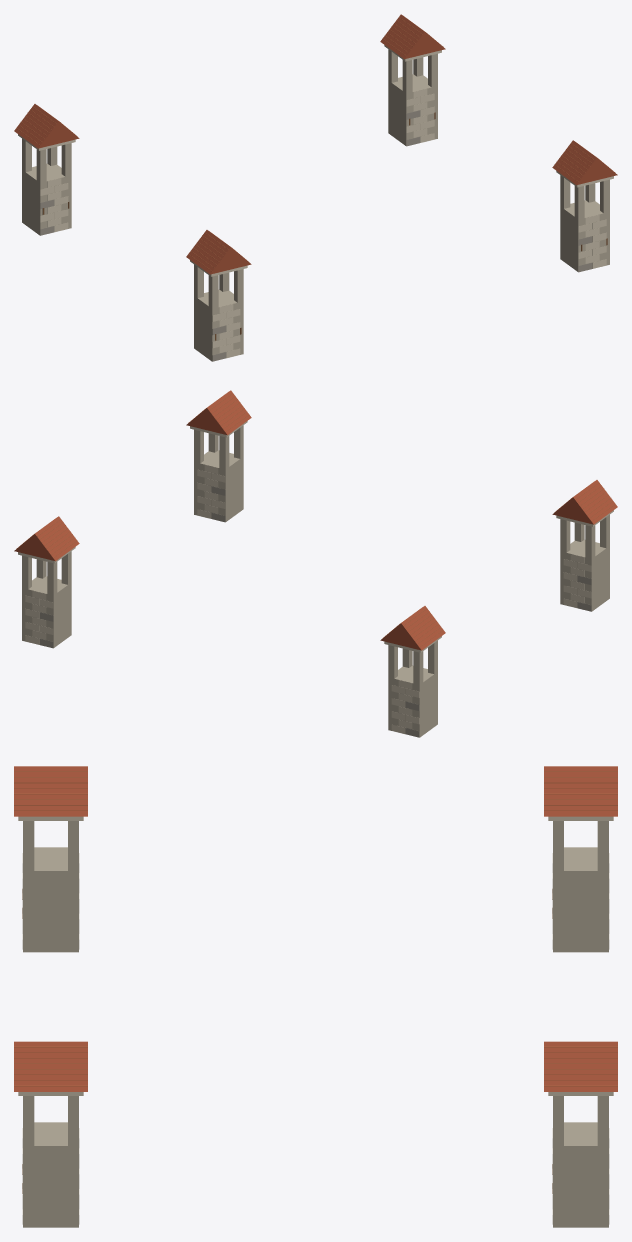
Rendered from 08_towers.glb.
3 renders of one model, top to bottom at view 1: azimuth 30°, elevation 25°; view 2: azimuth 150°, elevation 25°; view 3: azimuth 270°, elevation 25°, orthographic. The views are drawn at different scales.
Parts seen in each view (by area): view 1: 08_towers_stone, 08_towers_roof, 08_towers_ashlar_nocol, 08_towers_rooflight_nocol, 08_towers_mortar_nocol, 08_towers_ashlar; view 2: 08_towers_stone, 08_towers_roof, 08_towers_ashlar_nocol, 08_towers_rooflight_nocol, 08_towers_mortar_nocol, 08_towers_ashlar; view 3: 08_towers_stone, 08_towers_roof, 08_towers_rooflight_nocol, 08_towers_ashlar, 08_towers_ashlar_nocol.
Part boxes in pixels (<box>): 08_towers_stone: <box>22,49,609,361</box>; 08_towers_roof: <box>14,14,617,274</box>; 08_towers_ashlar_nocol: <box>40,89,606,357</box>; 08_towers_rooflight_nocol: <box>16,17,615,270</box>; 08_towers_mortar_nocol: <box>40,110,592,361</box>; 08_towers_ashlar: <box>18,45,613,276</box>; 08_towers_stone: <box>22,425,609,737</box>; 08_towers_roof: <box>14,390,617,650</box>; 08_towers_ashlar_nocol: <box>25,465,591,733</box>; 08_towers_rooflight_nocol: <box>16,393,615,646</box>; 08_towers_mortar_nocol: <box>39,486,591,737</box>; 08_towers_ashlar: <box>18,421,613,652</box>; 08_towers_stone: <box>23,821,608,1227</box>; 08_towers_roof: <box>14,766,617,1091</box>; 08_towers_rooflight_nocol: <box>14,771,617,1086</box>; 08_towers_ashlar: <box>18,816,613,1095</box>; 08_towers_ashlar_nocol: <box>22,853,609,1224</box>.
Size of the model in its own units: 323 by 85.5 by 269.
